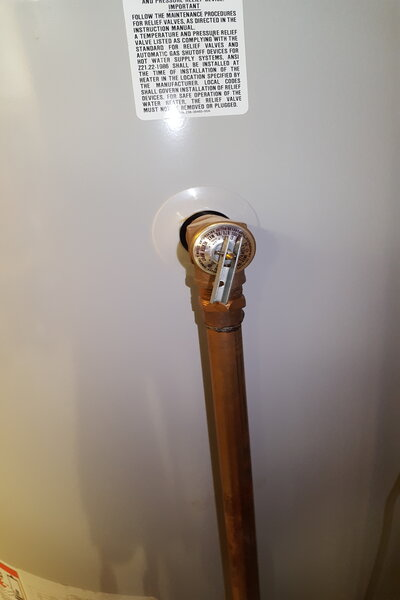valve: (177, 210, 261, 353)
